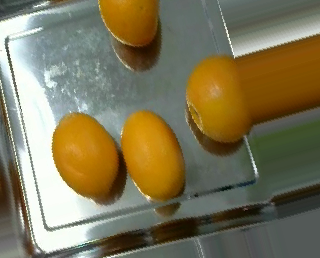Orange: (120, 109, 187, 202), (52, 111, 118, 200)
